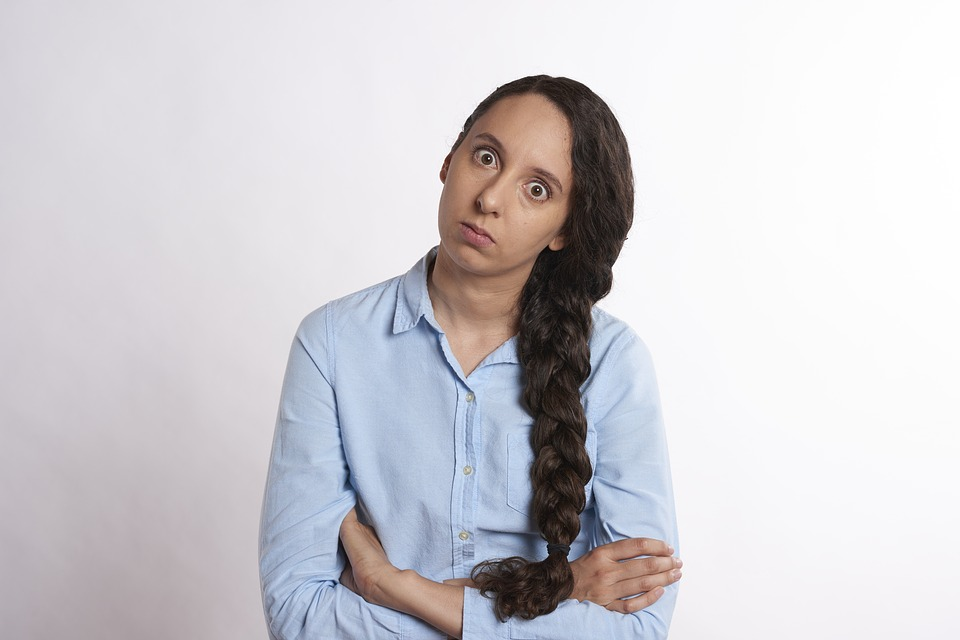angry: (434, 112, 566, 288)
